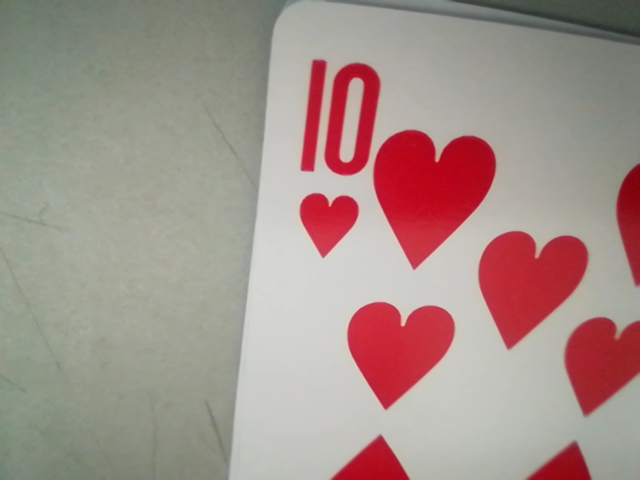hx 10: (300, 55, 380, 260)
